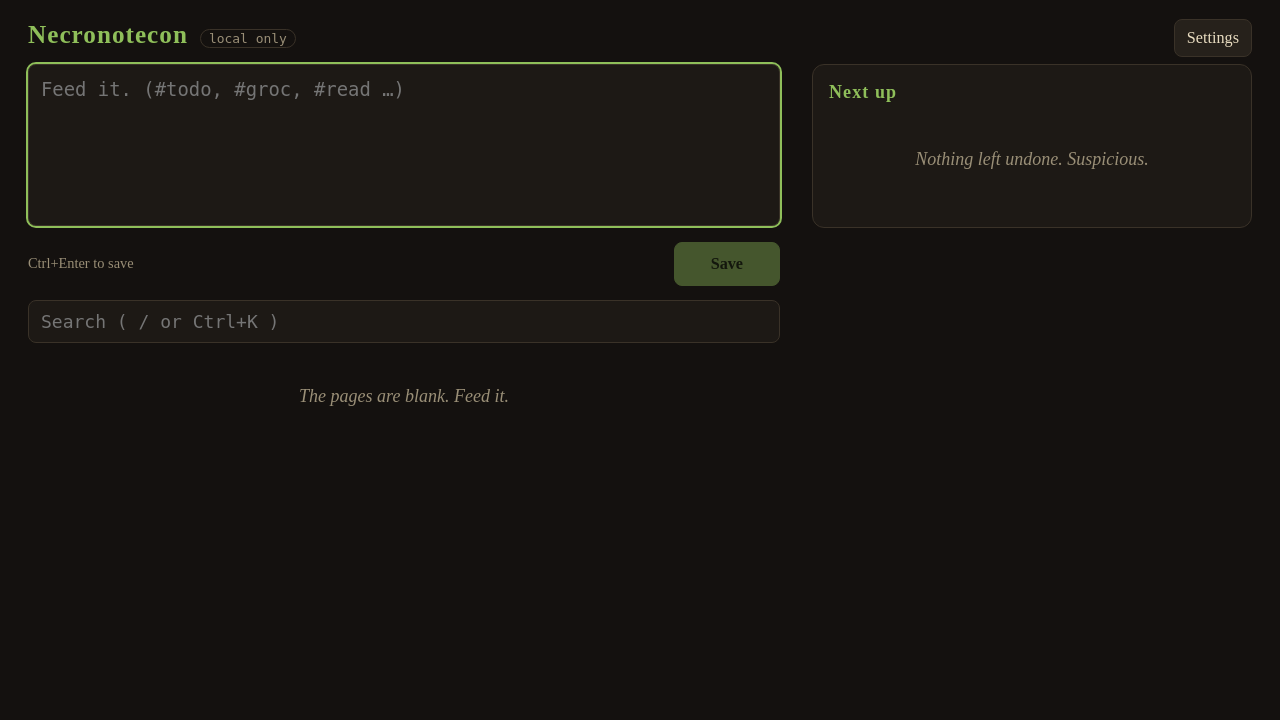
Test: settings offers Markdown and JSON export
Click the button "Settings".
click(1213, 38)  # box [1174,19,1252,57]
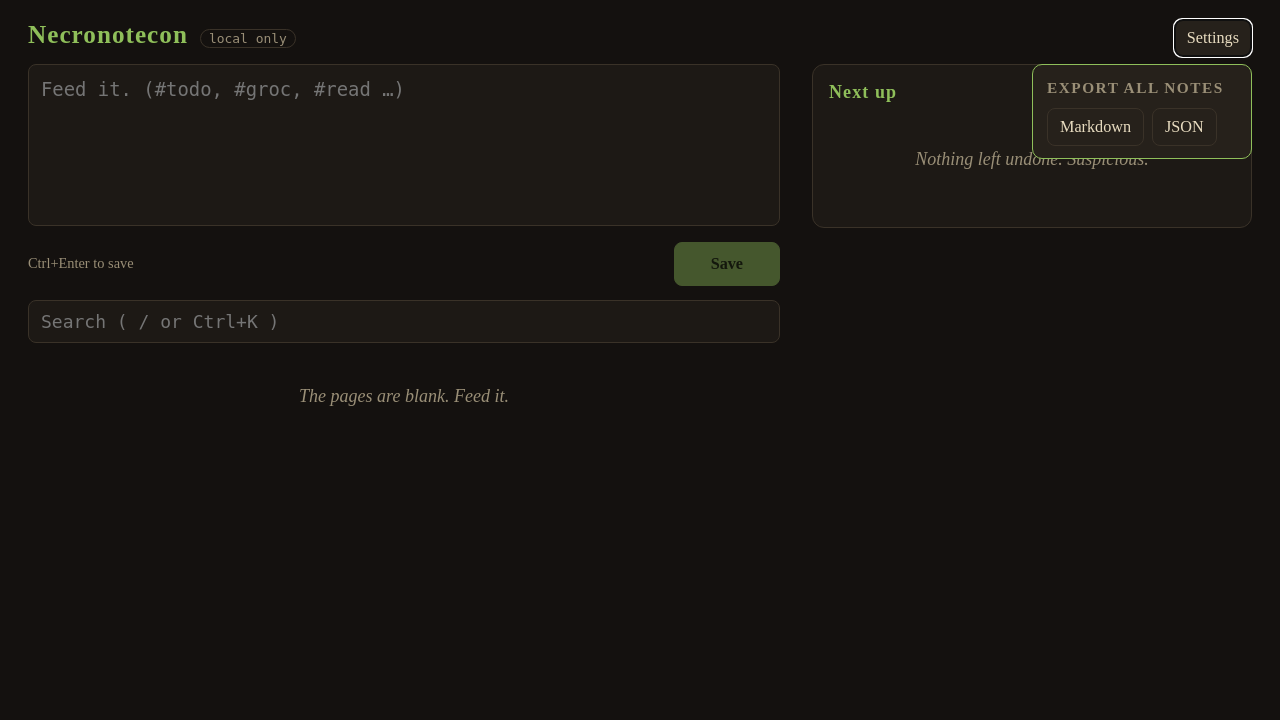
Now the button "Markdown" is shown, box [1047,108,1144,146]
Now the button "JSON" is shown, box [1152,108,1217,146]
